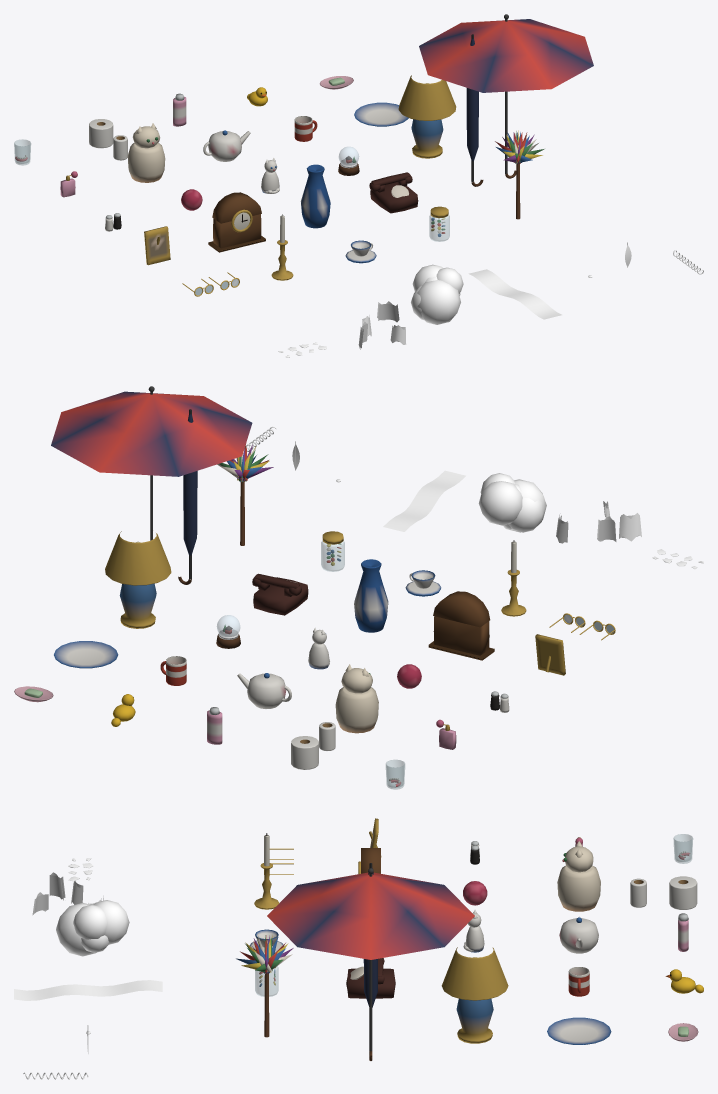
The model's file is knockables_v2.glb.
3 renders of one model, top to bottom at view 1: azimuth 30°, elevation 25°; view 2: azimuth 150°, elevation 25°; view 3: azimuth 270°, elevation 25°, orthographic. The views are drawn at different scales.
Parts seen in each view (by area): view 1: umbrella__open, fx_puff, mantel_clock, table_lamp__shade, vase, fx_ribbon, cookie_jar, feather_duster, rotary_phone, table_lamp, dinner_plate, teapot (+5 smaller); view 2: umbrella__open, mantel_clock, fx_puff, table_lamp__shade, vase, cookie_jar, fx_ribbon, table_lamp, dinner_plate, umbrella, teapot, rotary_phone (+8 smaller); view 3: umbrella__open, fx_puff, table_lamp__shade, cookie_jar, fx_ribbon, feather_duster, table_lamp, dinner_plate, teapot, rotary_phone, toilet_roll, candlestick (+10 smaller).
Part boxes in pixels (box(x1,y1,x2,y2)): umbrella__open: box(419, 14, 593, 178); fx_puff: box(411, 264, 463, 324); mantel_clock: box(208, 192, 265, 252); table_lamp__shade: box(398, 75, 456, 120); vase: box(300, 164, 330, 228); fx_ribbon: box(468, 269, 561, 319); cookie_jar: box(127, 142, 165, 182); feather_duster: box(495, 130, 544, 219); rotary_phone: box(370, 180, 418, 213); table_lamp: box(411, 83, 443, 158); dinner_plate: box(354, 102, 408, 126); teapot: box(203, 130, 250, 161); umbrella__open: box(51, 386, 252, 540); mantel_clock: box(428, 591, 494, 660); fx_puff: box(478, 473, 546, 532); table_lamp__shade: box(105, 531, 171, 585); vase: box(354, 559, 388, 632); cookie_jar: box(335, 687, 378, 733); fx_ribbon: box(383, 470, 465, 531); table_lamp: box(119, 541, 156, 628); dinner_plate: box(54, 641, 118, 668); umbrella: box(178, 409, 197, 584); teapot: box(237, 673, 291, 708); rotary_phone: box(253, 577, 308, 615); umbrella__open: box(267, 868, 474, 1060); fx_puff: box(56, 900, 129, 956); table_lamp__shade: box(441, 947, 508, 1000); cookie_jar: box(557, 865, 600, 911); fx_ribbon: box(14, 980, 162, 1000); feather_duster: box(236, 935, 293, 1037); table_lamp: box(456, 957, 493, 1043); dinner_plate: box(547, 1017, 611, 1044); teapot: box(559, 916, 598, 953); rotary_phone: box(346, 962, 395, 998); toilet_roll: box(669, 876, 697, 909); candlestick: box(254, 833, 279, 909).
Size of the model in its own units: 2.34 by 0.8663 by 2.78.
